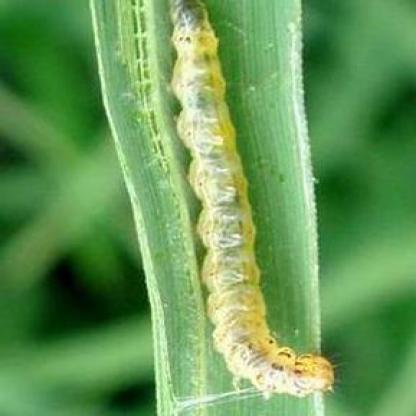leaf-folder: (123, 4, 350, 402)
